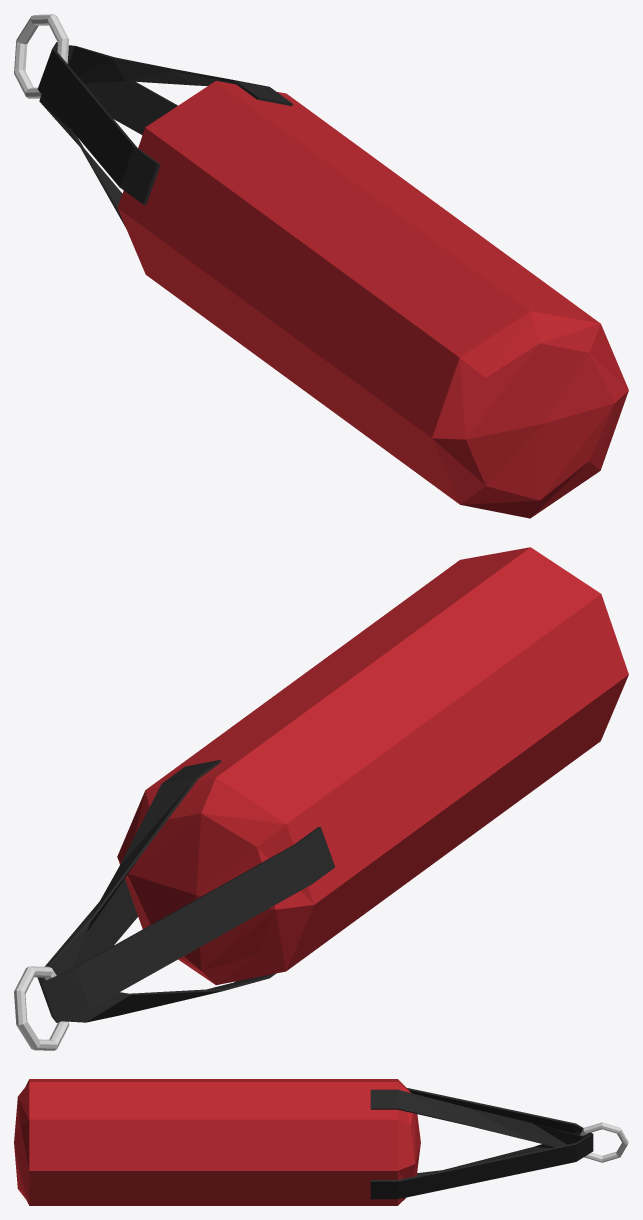
Rendered from punching bag.fbx.
3 views of the same model, one above another, from view 1: azimuth 30°, elevation 25°; view 2: azimuth 150°, elevation 25°; view 3: azimuth 270°, elevation 25° (orthographic). The views are drawn at different scales.
Parts seen in each view (by area): view 1: imagetostl_mesh3, imagetostl_mesh2, imagetostl_mesh1, imagetostl_mesh0; view 2: imagetostl_mesh3, imagetostl_mesh2, imagetostl_mesh1, imagetostl_mesh0; view 3: imagetostl_mesh3, imagetostl_mesh2, imagetostl_mesh1, imagetostl_mesh0.
Boxes of the visible parts, x1,y1,x2,y2 form: imagetostl_mesh3: (117,81,628,518); imagetostl_mesh2: (37,42,177,204); imagetostl_mesh1: (39,45,292,227); imagetostl_mesh0: (14,14,69,98); imagetostl_mesh3: (117,547,628,985); imagetostl_mesh2: (37,827,334,1022); imagetostl_mesh1: (43,760,276,1022); imagetostl_mesh0: (14,966,69,1050); imagetostl_mesh3: (14,1079,420,1205); imagetostl_mesh2: (370,1088,593,1199); imagetostl_mesh1: (370,1089,590,1175); imagetostl_mesh0: (580,1122,628,1162).
Size of the model in its own units: 103 by 103 by 474.
